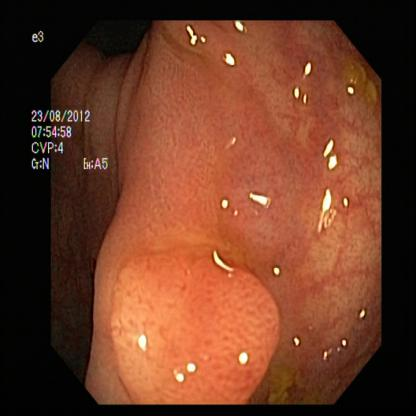Labels: (29, 107, 116, 180)
Polyps: (111, 257, 266, 405)
